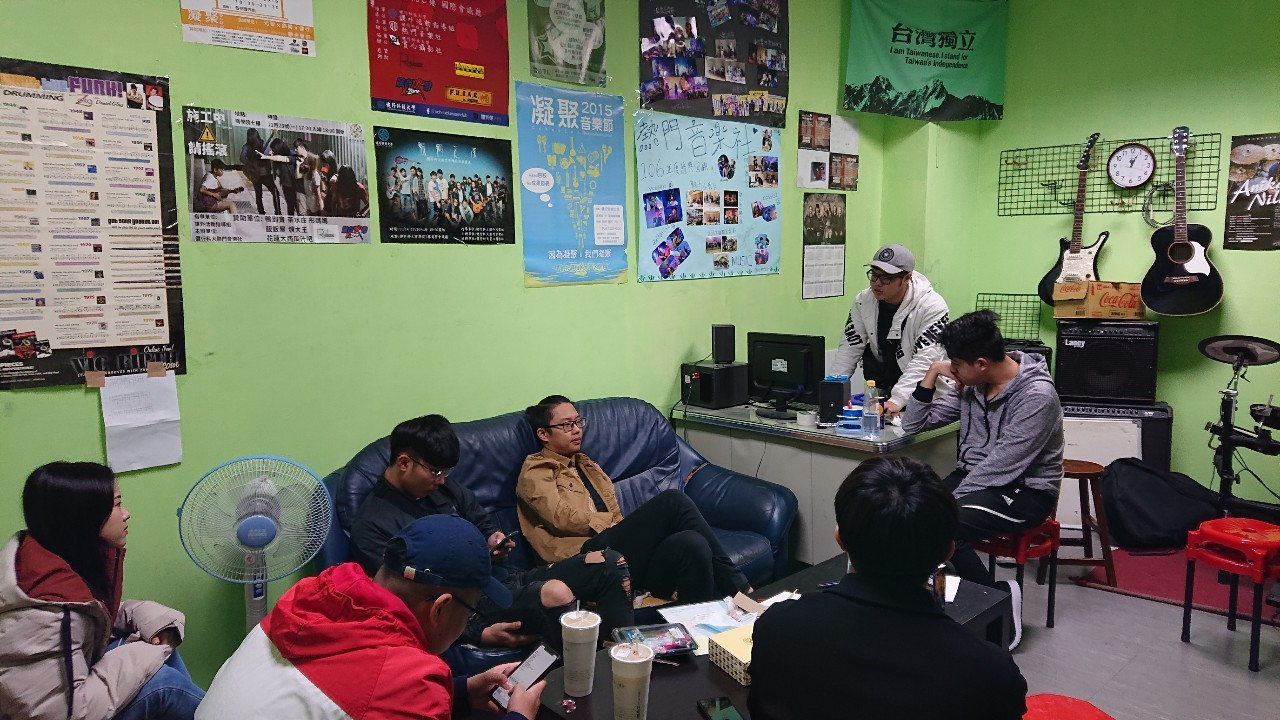people: (777, 458, 1017, 720), (249, 518, 528, 717), (2, 447, 195, 720), (951, 309, 1040, 551), (526, 397, 640, 567), (855, 246, 946, 415), (358, 409, 457, 524)
